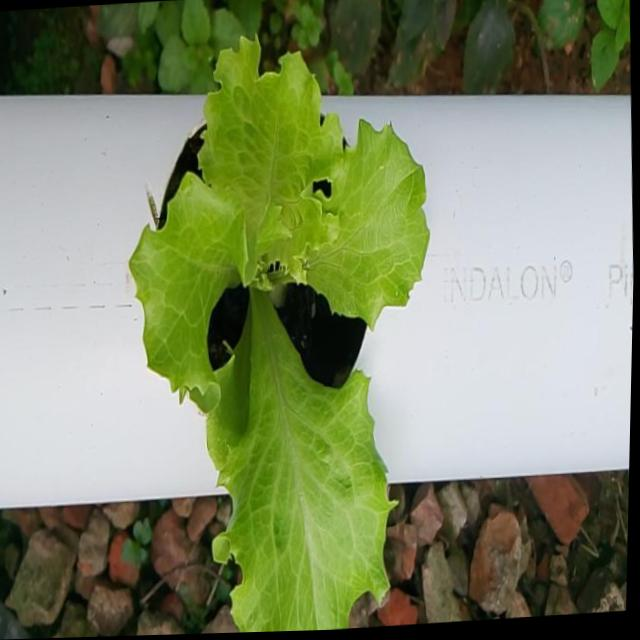Baby: (131, 31, 428, 632)
